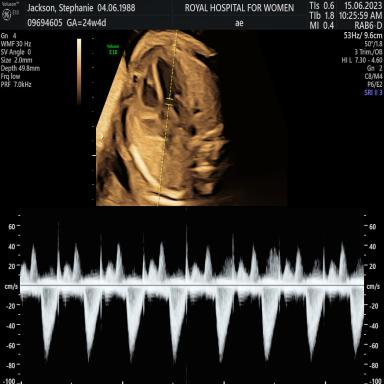Ultrasound-Waves: (27, 215, 363, 384)
